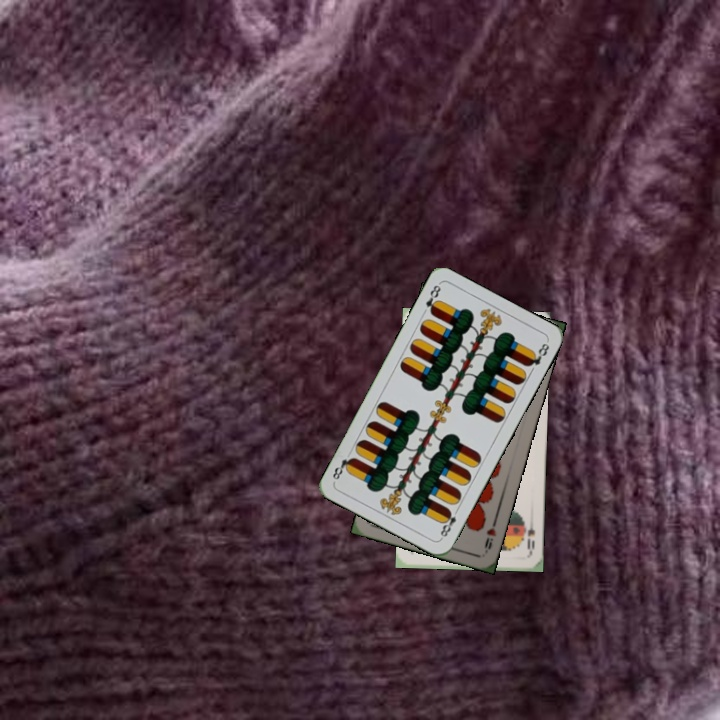E8: (436, 504, 462, 541), (421, 280, 443, 317)
H9: (480, 515, 499, 555)
SO: (523, 515, 538, 555)
